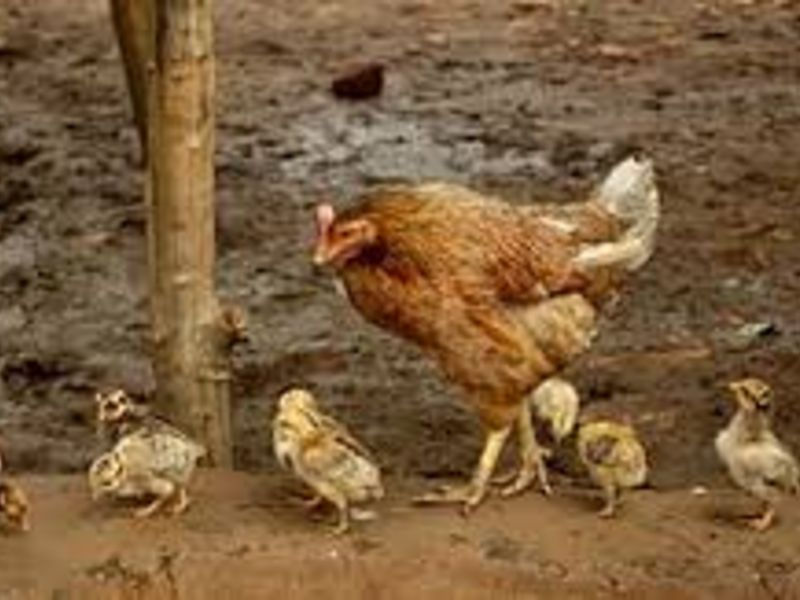hen: (300, 148, 690, 523)
